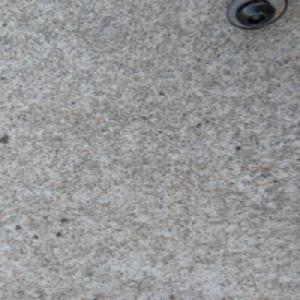BoltWasher: (225, 0, 289, 31)
